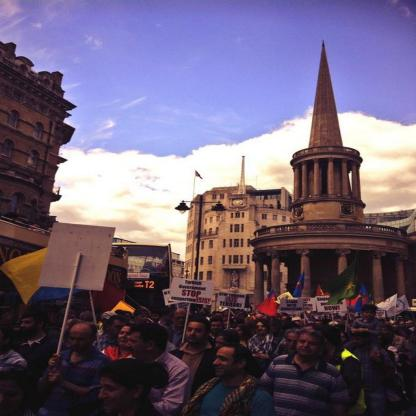face: (99, 380, 131, 411), (1, 383, 24, 416), (214, 352, 238, 377), (70, 330, 92, 353), (126, 334, 146, 358), (296, 336, 319, 356), (187, 325, 207, 344), (119, 330, 135, 347), (111, 323, 127, 339), (287, 336, 301, 353), (22, 319, 37, 333), (62, 316, 77, 329), (175, 317, 189, 328), (216, 340, 228, 352), (211, 323, 223, 334), (79, 317, 93, 326), (256, 324, 267, 335), (1, 332, 8, 349), (11, 328, 21, 338), (139, 315, 150, 324), (106, 319, 116, 328), (235, 329, 244, 338), (365, 312, 375, 320), (305, 327, 314, 335), (353, 340, 362, 348), (395, 342, 404, 350), (224, 322, 232, 331), (124, 315, 131, 323), (282, 318, 289, 326), (315, 322, 323, 329), (340, 335, 348, 342), (152, 315, 160, 321), (84, 308, 92, 314), (411, 336, 416, 345), (167, 314, 173, 321), (382, 329, 389, 335), (260, 315, 266, 321), (393, 326, 399, 332), (295, 321, 302, 326), (214, 314, 221, 319), (400, 323, 406, 328), (145, 264, 151, 269), (343, 321, 349, 326), (201, 310, 206, 316), (117, 250, 124, 254), (120, 314, 125, 318), (406, 323, 411, 327)
